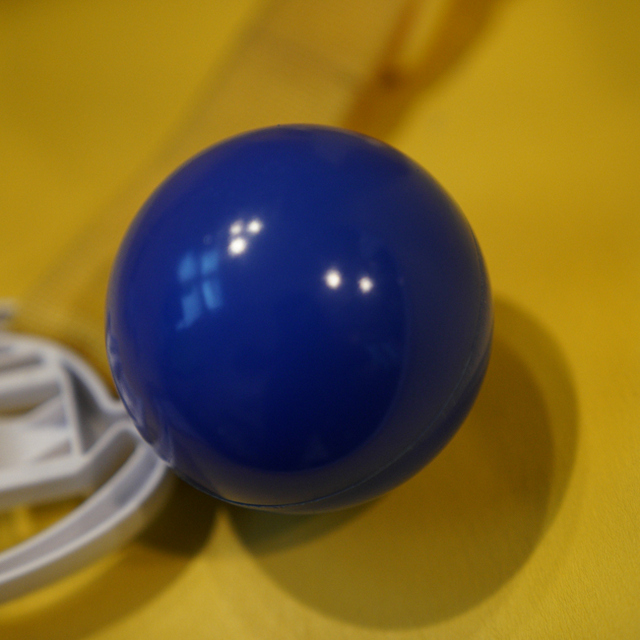Ball: (106, 125, 496, 509)
